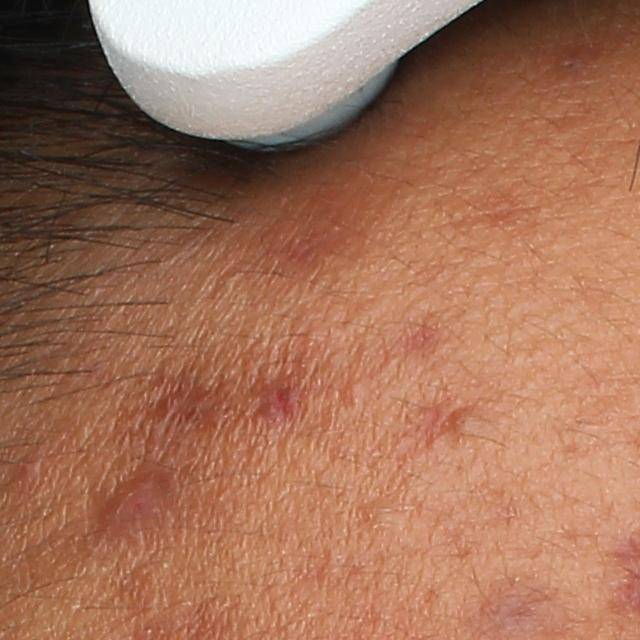comedo: (341, 377, 369, 406)
papule: (95, 479, 160, 535)
